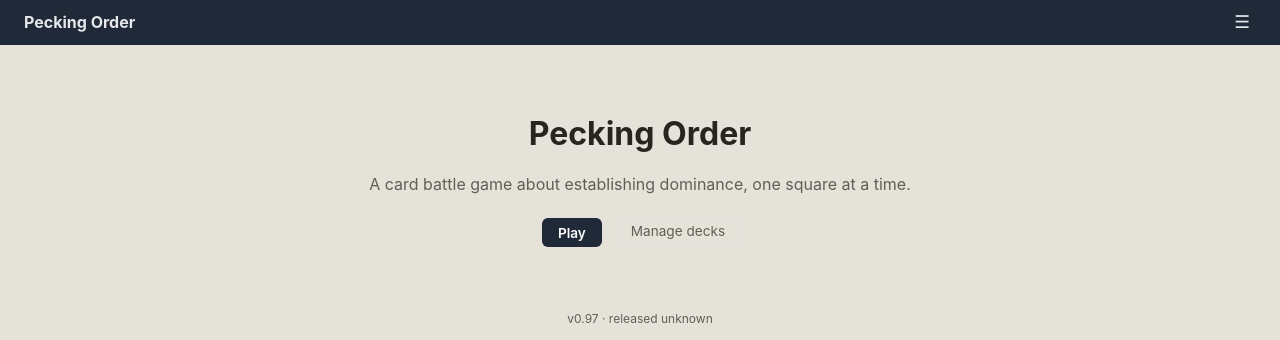
Test case: App › keeps New Game/Manage/theme toggle hidden until the hamburger menu is opened (#123)
Expected: the link "New Game" is not shown
Expected: the button "mode" is not shown
Step 1. Click the button named "Menu" → {"x": 1242, "y": 23}, box [1228, 13, 1256, 33]
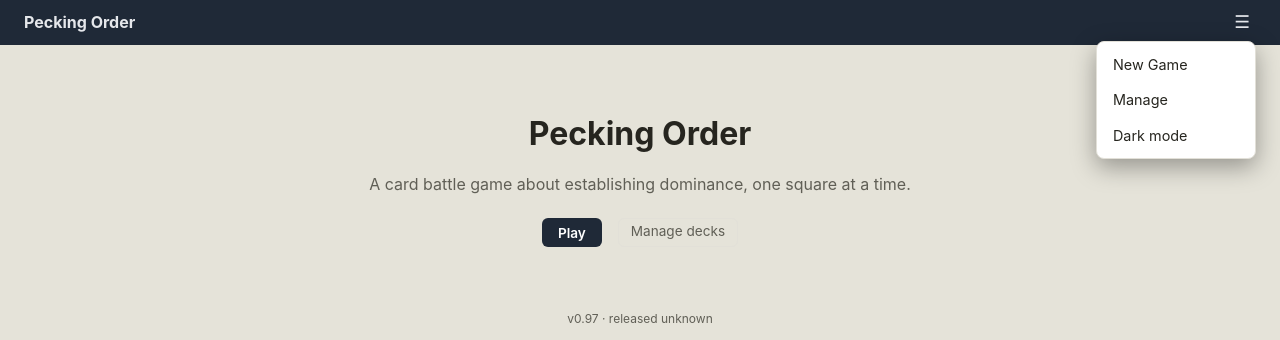
Now the link "New Game" is shown, box [1113, 56, 1188, 73]
Now the link "Manage" is shown, box [1113, 91, 1168, 108]
Now the button "Dark mode" is shown, box [1103, 119, 1249, 152]
